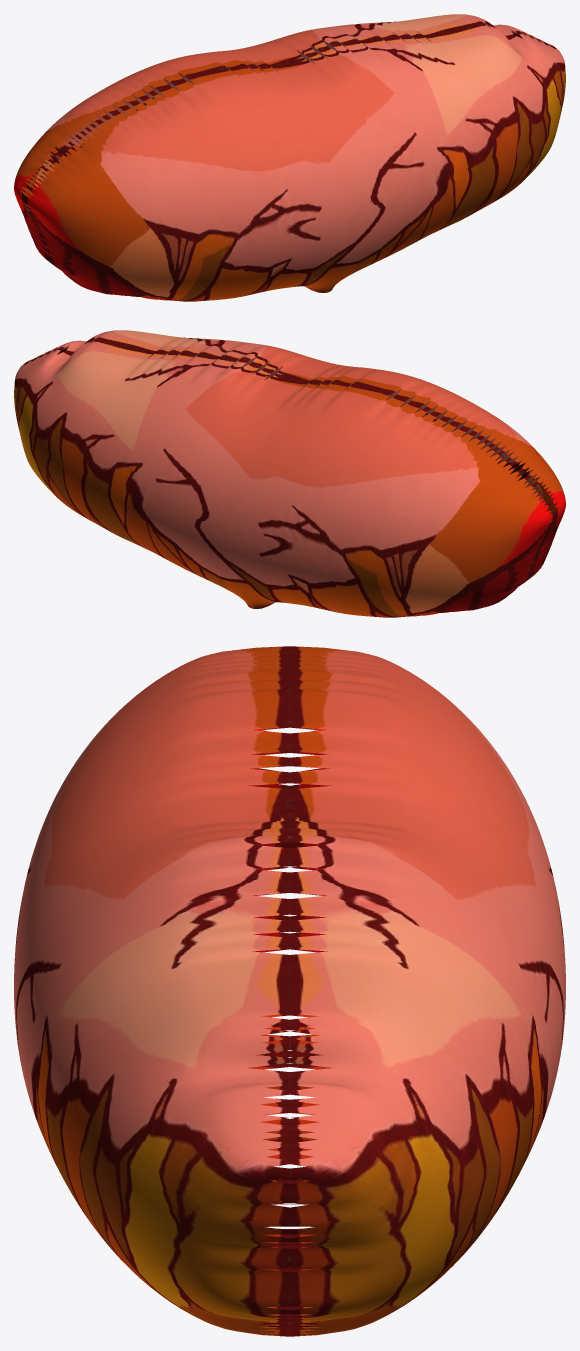
The model's file is raised_rock_shelf.glb.
3 renders of one model, top to bottom at view 1: azimuth 30°, elevation 25°; view 2: azimuth 150°, elevation 25°; view 3: azimuth 270°, elevation 25°, orthographic. The views are drawn at different scales.
Parts seen in each view (by area): view 1: raised_rock_shelf; view 2: raised_rock_shelf; view 3: raised_rock_shelf.
Part boxes in pixels (box(x1,y1,x2,y2)): raised_rock_shelf: box(14, 14, 565, 301); raised_rock_shelf: box(14, 330, 565, 617); raised_rock_shelf: box(14, 646, 565, 1336).
Size of the model in its own units: 0.9889 by 0.3807 by 0.4446.
Materials: 1 (1 with a texture image).
